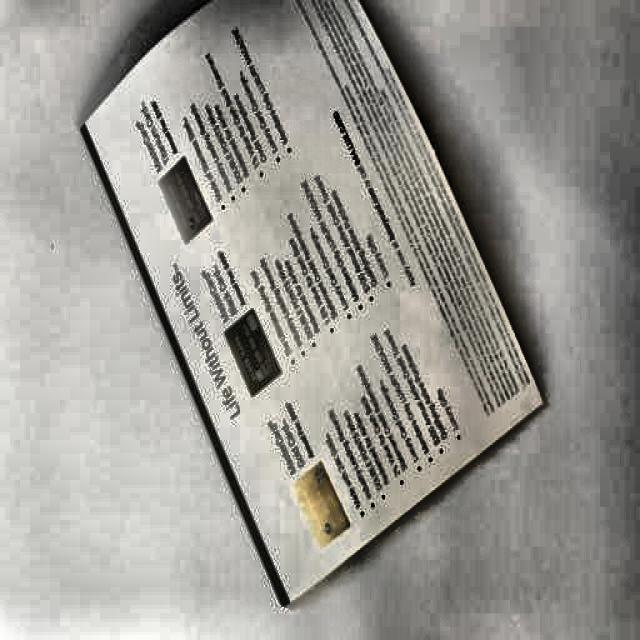paper: (73, 3, 547, 579)
